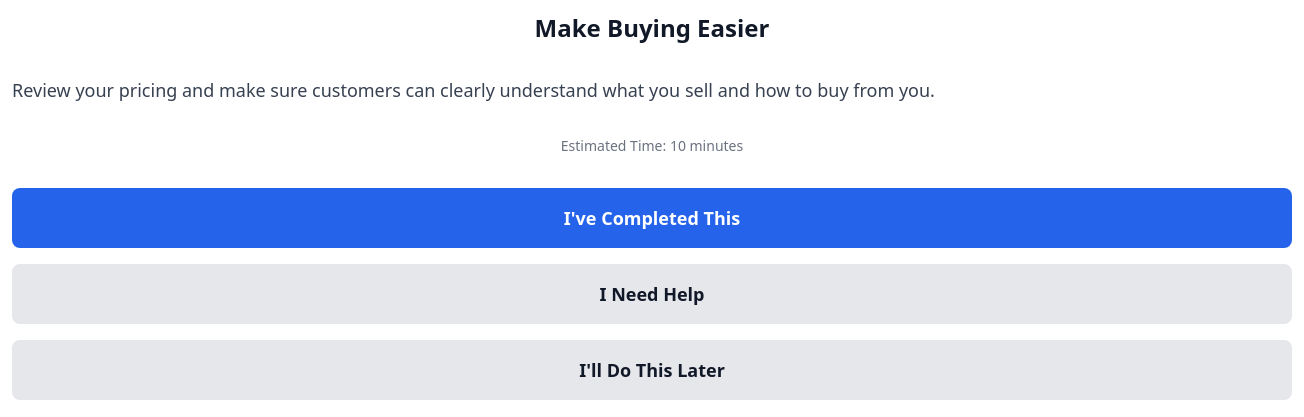
it: DailyRecommendation › shows help content instead of saving when I Need Help is pressed
Click the button "I Need Help".
click(652, 294)  # box top-left (12, 264), bottom-right (1292, 324)
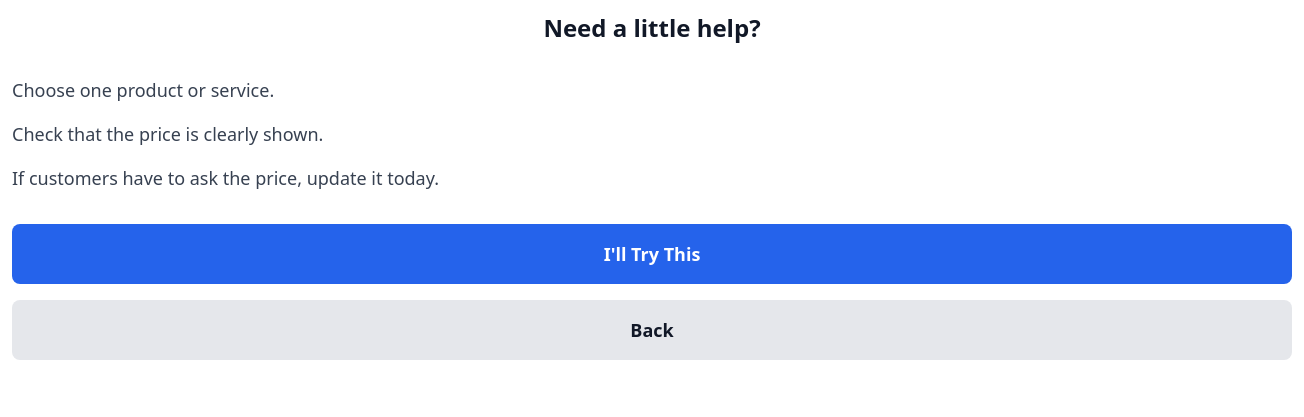
expect the heading "Need a little help?" is shown: met, box top-left (543, 11), bottom-right (761, 44)
expect the text "Choose one product or service." is shown: met, box top-left (12, 78), bottom-right (274, 102)
